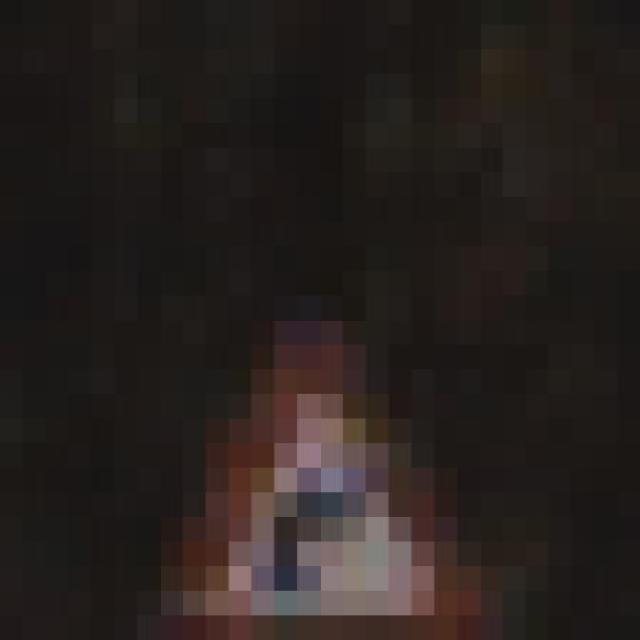Dangerous Rright Curve Ahead: (114, 271, 503, 615)
